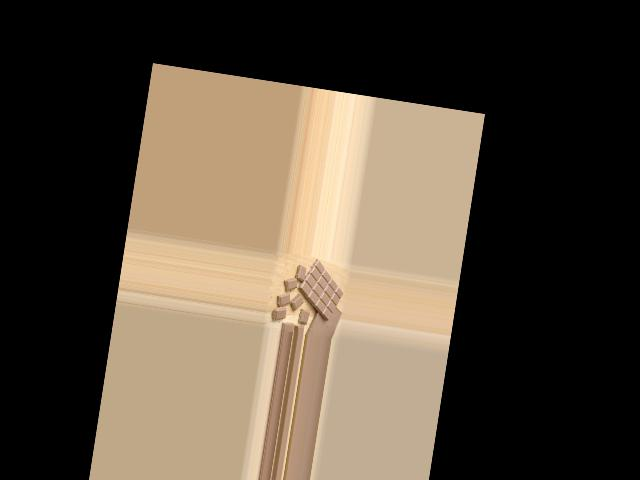chocolate: (291, 258, 347, 322)
